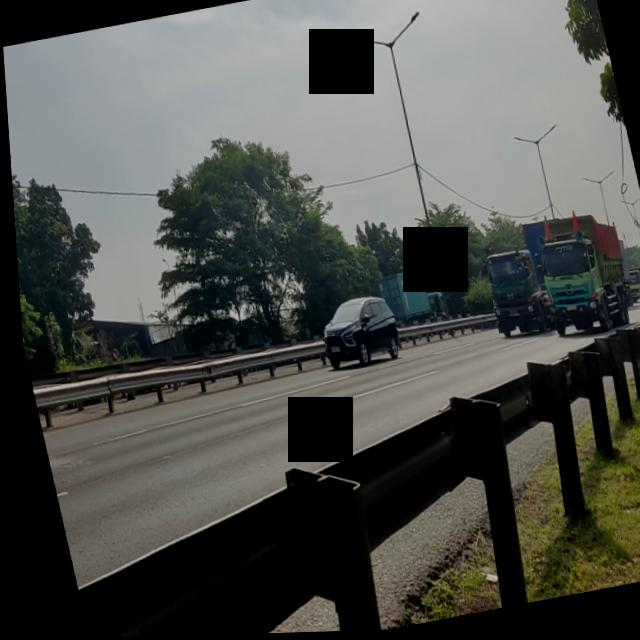Golongan I: (303, 274, 405, 380)
